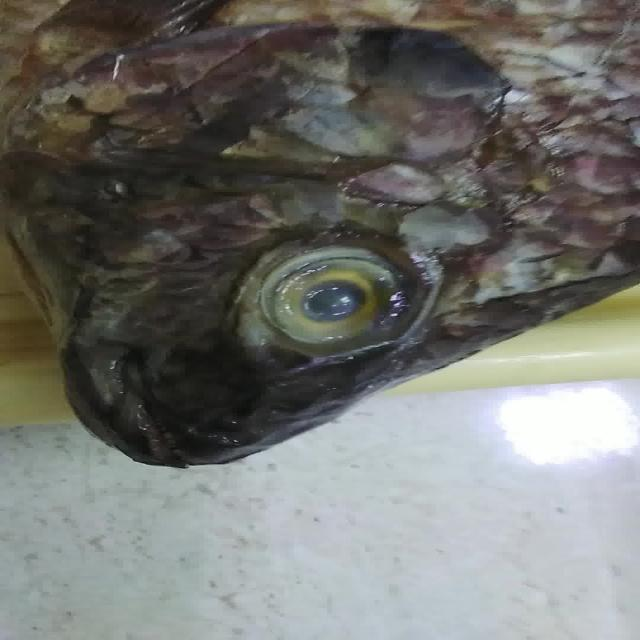Non-Fresh: (237, 225, 427, 374)
